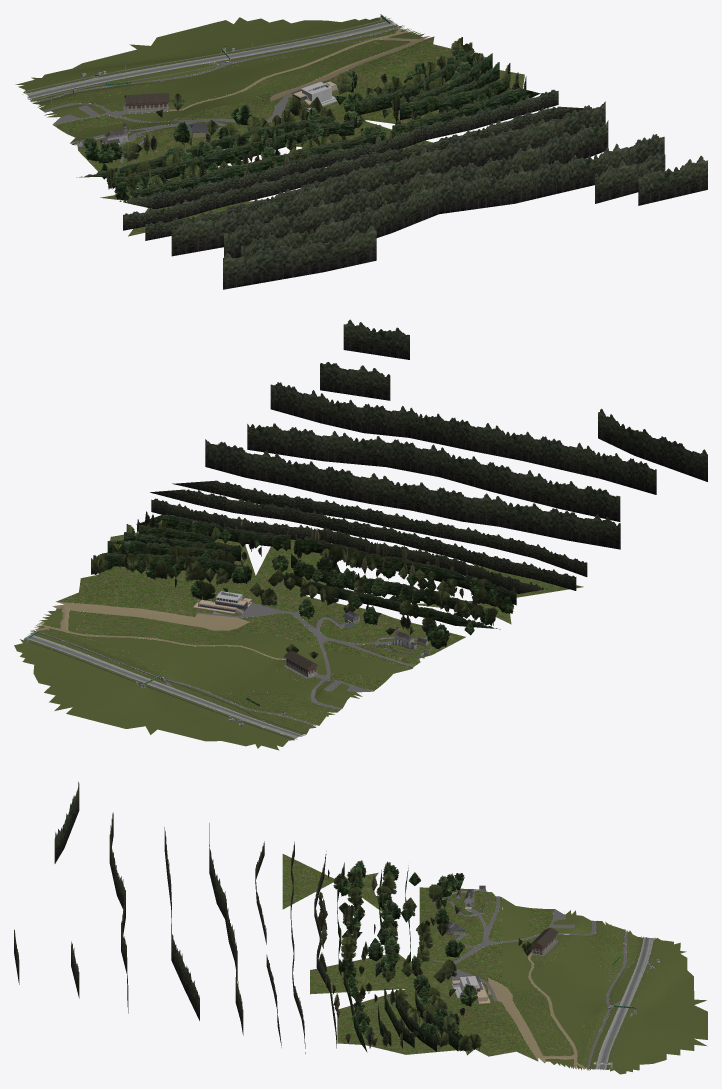
3 renders of one model, top to bottom at view 1: azimuth 30°, elevation 25°; view 2: azimuth 150°, elevation 25°; view 3: azimuth 270°, elevation 25°, orthographic. The views are drawn at different scales.
Visible parts, largest first — view 1: tile_t10; view 2: tile_t10; view 3: tile_t10.
Boxes of the visible parts, x1,y1,x2,y2 form: tile_t10: [15, 14, 707, 289]; tile_t10: [14, 319, 707, 750]; tile_t10: [14, 782, 707, 1074].
Bounding box in the file's own units: 554 × 150 × 763.
Materials: 32 (32 with a texture image).
